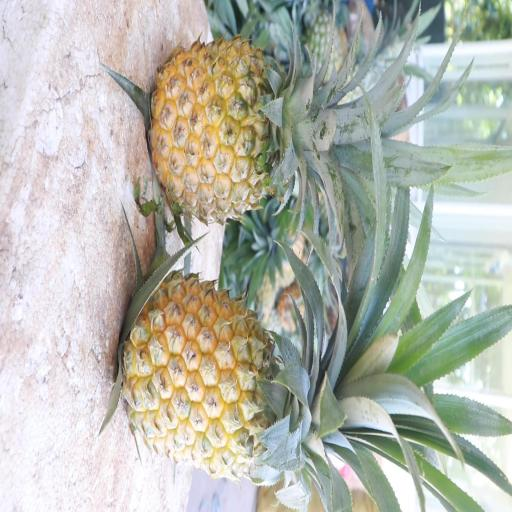Pineapple - v8 v1: (118, 271, 372, 485), (146, 34, 351, 233)
